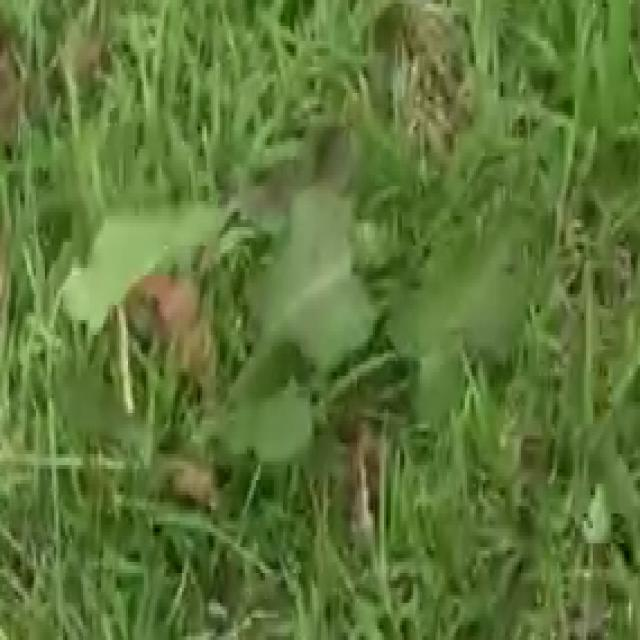organic waste: (40, 156, 598, 566)
